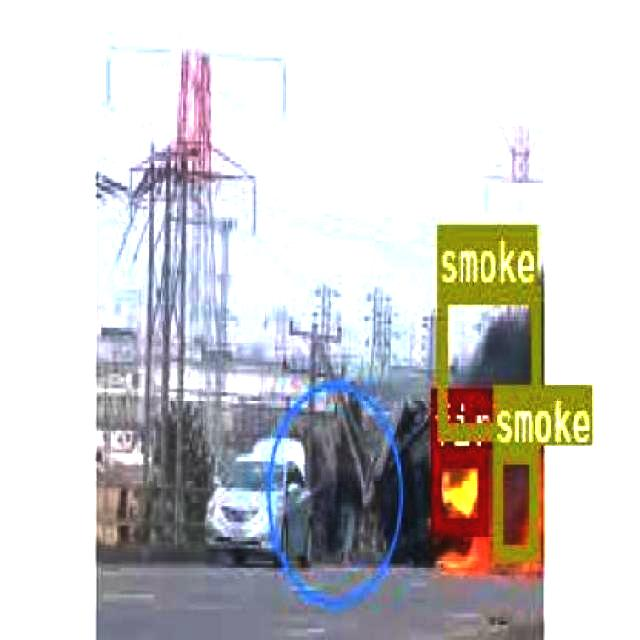fire: (430, 448, 486, 534)
smoke: (436, 284, 538, 434), (492, 442, 536, 558)
